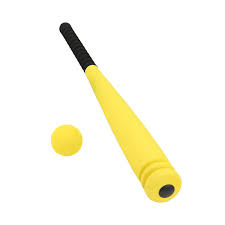baseball bat: (56, 21, 183, 203)
